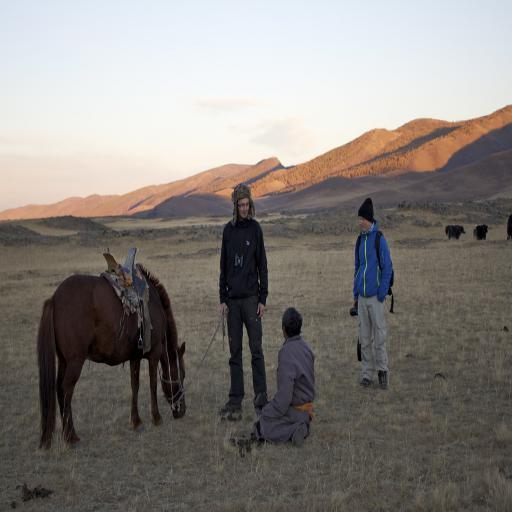horse: (37, 263, 186, 452)
